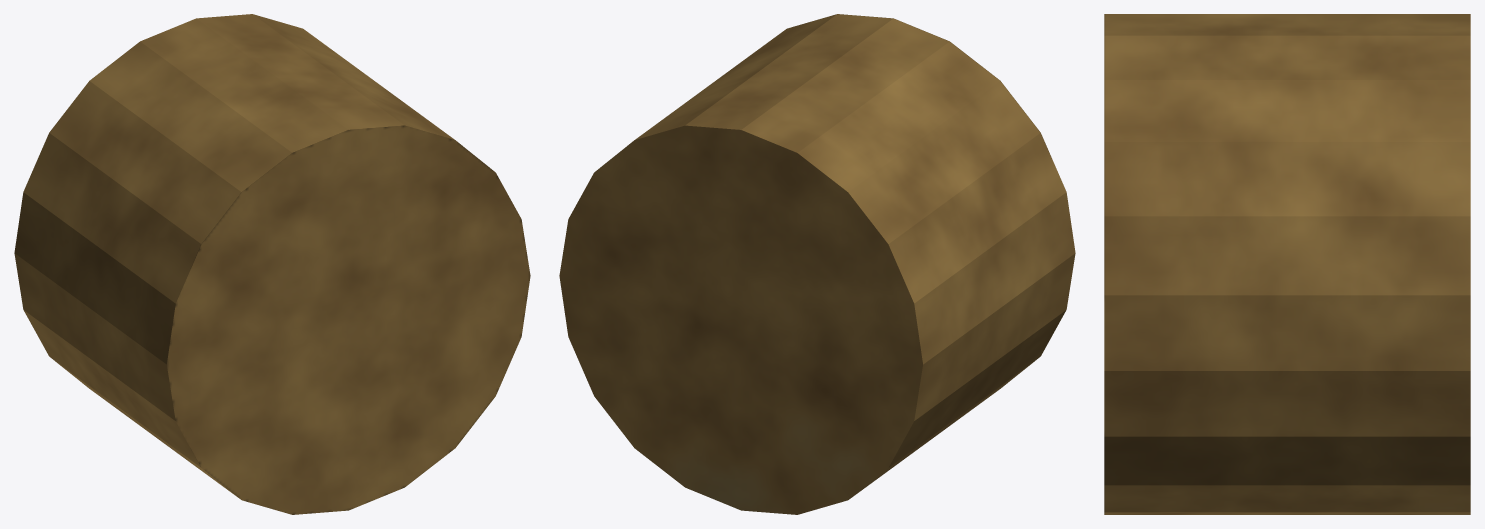
File: Strap rivet__n16.glb
3 views of the same model, side by side, from view 1: azimuth 30°, elevation 25°; view 2: azimuth 150°, elevation 25°; view 3: azimuth 270°, elevation 25° (orthographic). The views are drawn at different scales.
Visible parts, largest first — view 1: Strap rivet; view 2: Strap rivet; view 3: Strap rivet.
Part boxes in pixels (box(x1,y1,x2,y2)): Strap rivet: box(14, 14, 530, 514); Strap rivet: box(559, 14, 1075, 514); Strap rivet: box(1104, 14, 1470, 514).
Size of the model in its own units: 0.062 by 0.062 by 0.045.
1 material, 1 textured.
